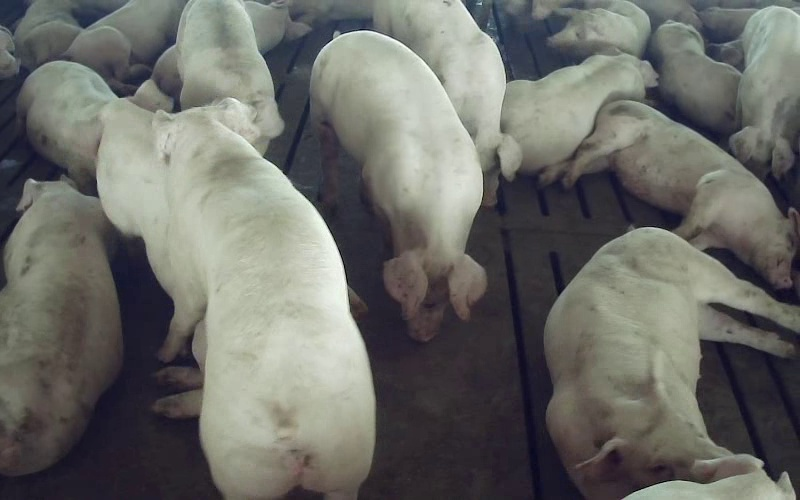pig: (311, 31, 484, 341), (540, 100, 799, 288), (0, 181, 122, 475), (373, 0, 521, 206), (501, 53, 657, 173), (175, 0, 283, 153), (17, 61, 117, 193), (729, 6, 799, 178), (649, 20, 740, 134), (532, 0, 650, 58)
